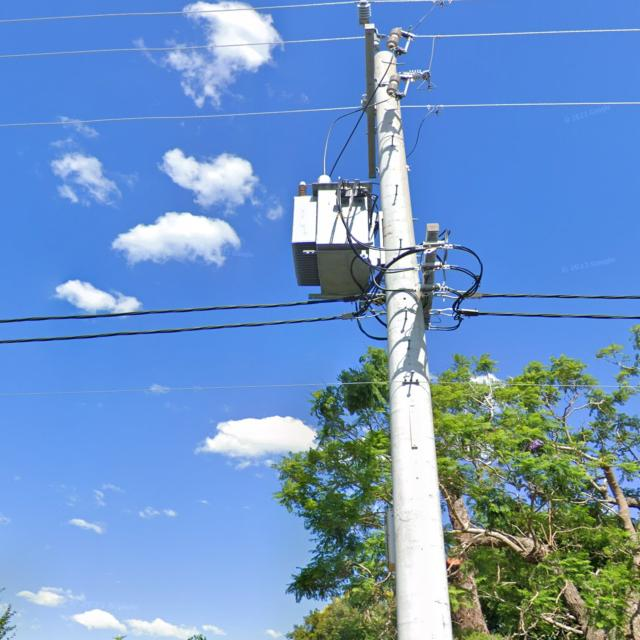HV-transmission: (356, 0, 438, 101)
LV link: (416, 241, 483, 264), (416, 261, 479, 281), (418, 283, 462, 299)
concrete-pole: (374, 49, 455, 640)
crossarm: (422, 222, 441, 330), (364, 23, 376, 180)
transformer: (293, 179, 373, 301)
